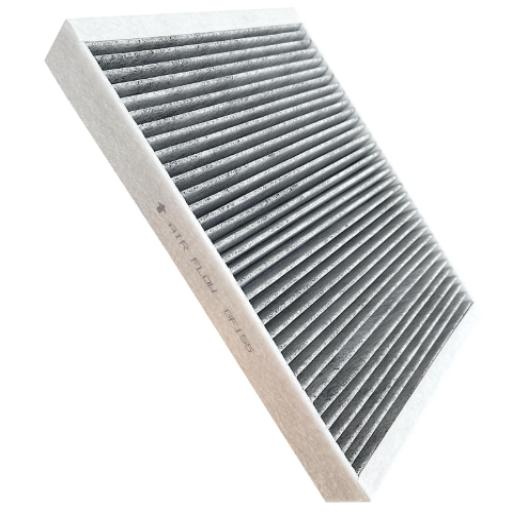cabin_filter: (40, 1, 482, 512)
